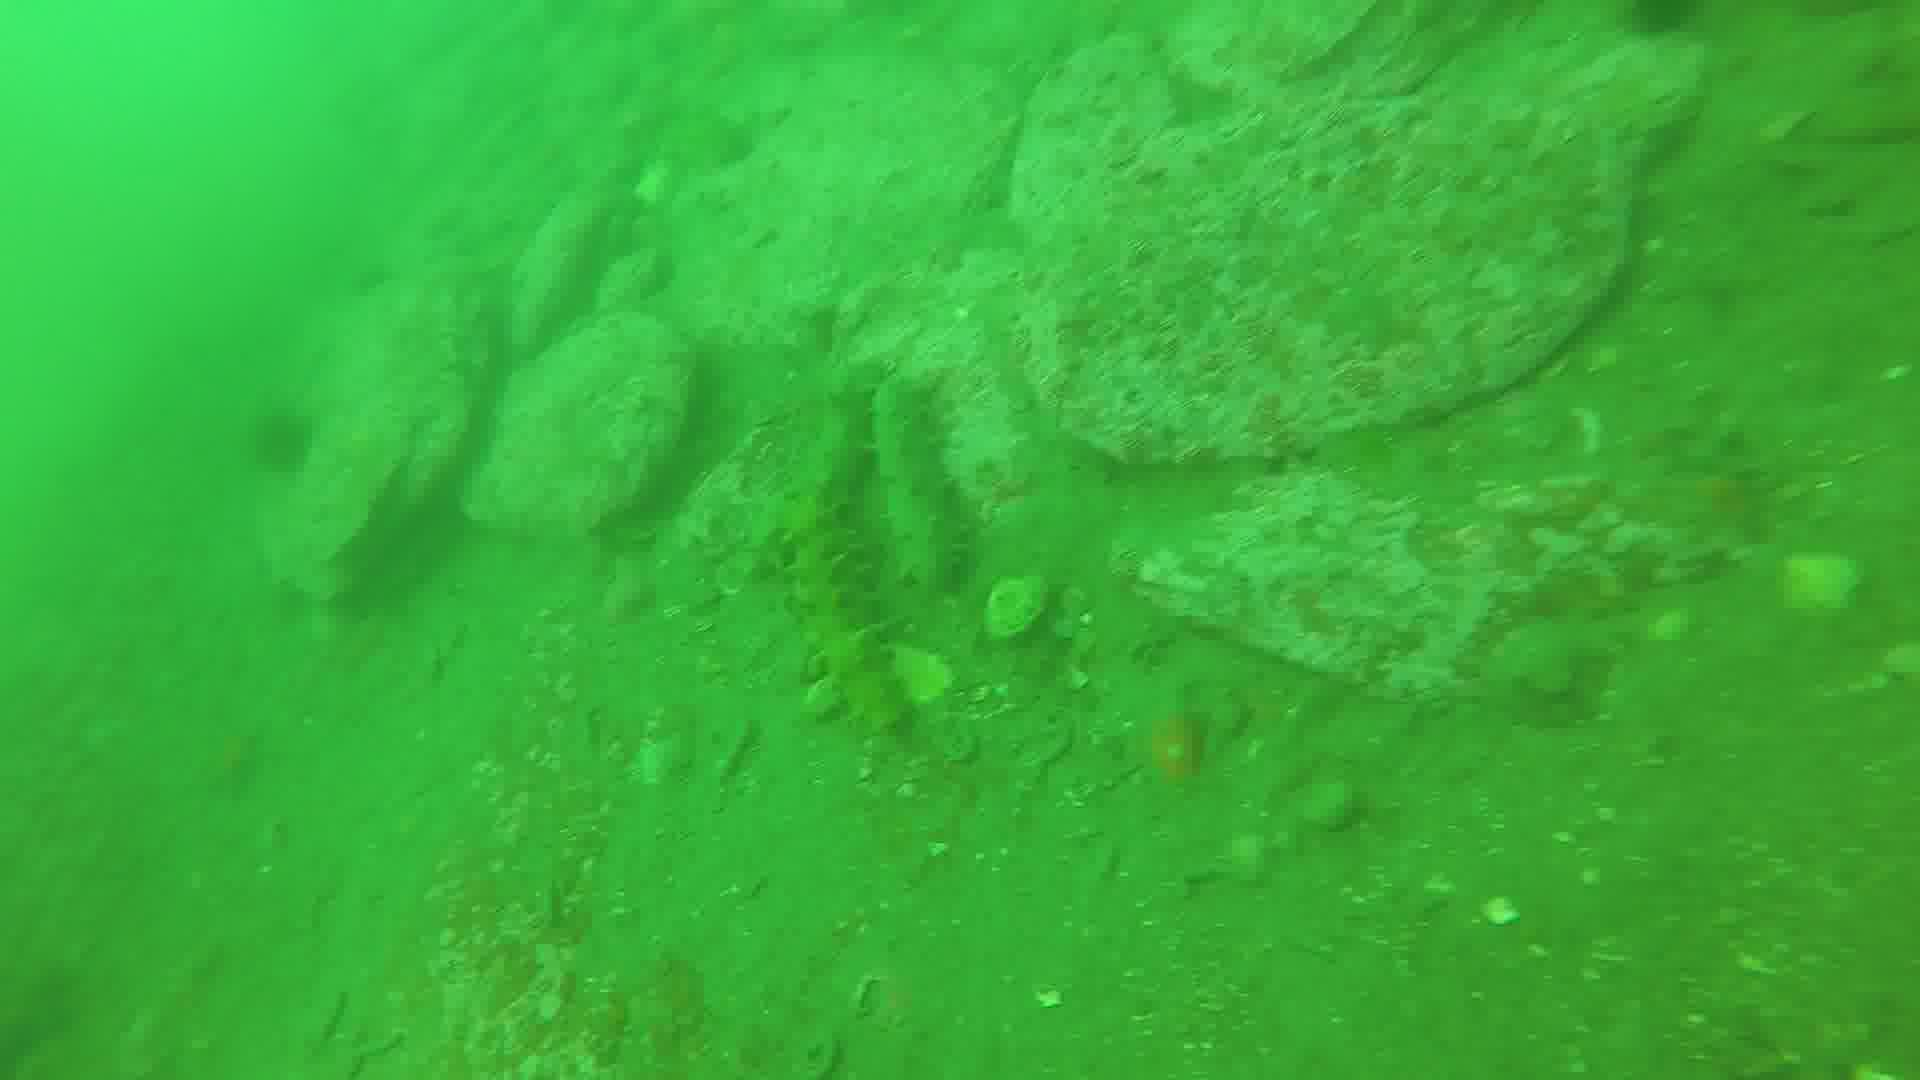echinus: (257, 411, 316, 476)
holothurian: (779, 500, 919, 732), (758, 363, 889, 578), (869, 388, 981, 592)
